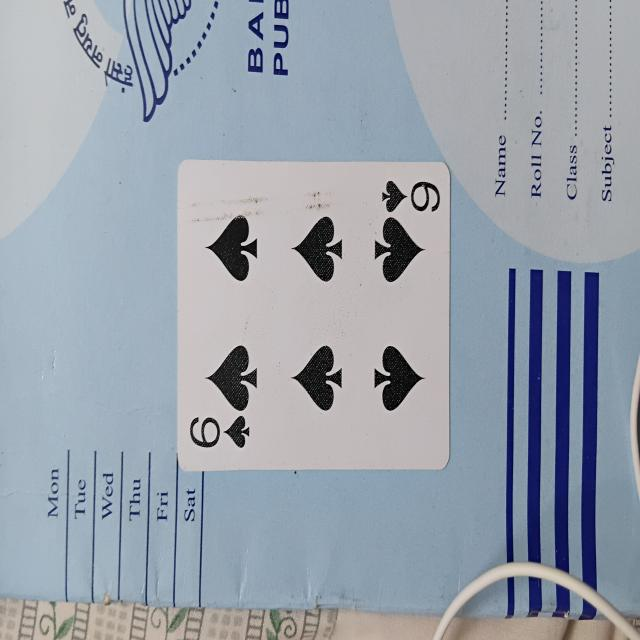6S: (178, 155, 452, 469)
